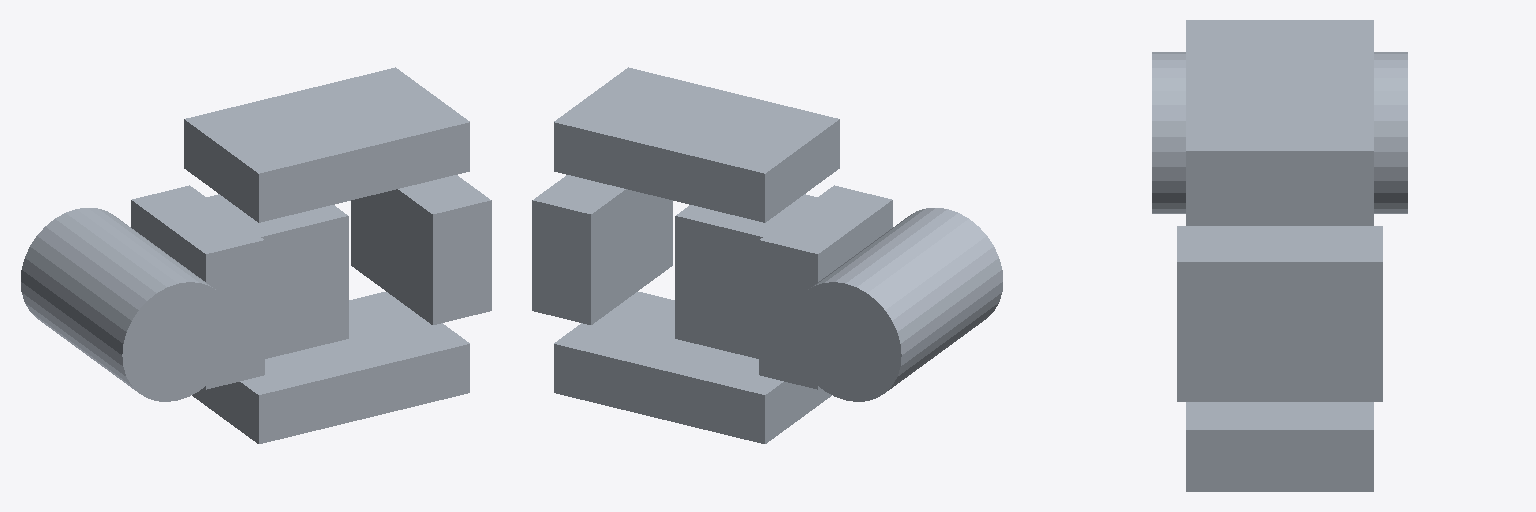
robot.urdf — robotic_wrist_head:
<robot name="robotic_wrist_head">
  <material name="dark_anodized">
    <color rgba="0.17 0.19 0.23 1" />
  </material>
  <material name="machined_aluminum">
    <color rgba="0.73 0.76 0.8 1" />
  </material>
  <material name="brushed_steel">
    <color rgba="0.6 0.62 0.66 1" />
  </material>
  <link name="base_mount">
    <inertial>
      <origin xyz="-0.024 0 0" rpy="0 0 0" />
      <mass value="1.15" />
      <inertia ixx="0.0009936" ixy="0" ixz="0" iyy="0.000650133" iyz="0" izz="0.000650133" />
    </inertial>
    <visual>
      <geometry>
        <mesh filename="meshes/base_mount.glb" />
      </geometry>
      <material name="dark_anodized" />
    </visual>
    <collision>
      <origin xyz="-0.02 0 0" rpy="0 0 0" />
      <geometry>
        <box size="0.03 0.058 0.058" />
      </geometry>
    </collision>
    <collision>
      <origin xyz="-0.04 0 0" rpy="0 0 0" />
      <geometry>
        <box size="0.01 0.068 0.068" />
      </geometry>
    </collision>
  </link>
  <link name="yaw_housing">
    <inertial>
      <origin xyz="0.026 0 0" rpy="0 0 0" />
      <mass value="0.8" />
      <inertia ixx="0.0015552" ixy="0" ixz="0" iyy="0.000986667" iyz="0" izz="0.000986667" />
    </inertial>
    <visual>
      <geometry>
        <mesh filename="meshes/yaw_housing.glb" />
      </geometry>
      <material name="dark_anodized" />
    </visual>
    <collision>
      <origin xyz="0.004 0 0" rpy="0 0 0" />
      <geometry>
        <box size="0.004 0.03 0.03" />
      </geometry>
    </collision>
    <collision>
      <origin xyz="0.013 -0.032 0" rpy="0 0 0" />
      <geometry>
        <box size="0.022 0.014 0.06" />
      </geometry>
    </collision>
    <collision>
      <origin xyz="0.013 0.032 0" rpy="0 0 0" />
      <geometry>
        <box size="0.022 0.014 0.06" />
      </geometry>
    </collision>
    <collision>
      <origin xyz="0.058 -0.024 0" rpy="0 0 0" />
      <geometry>
        <box size="0.01 0.008 0.024" />
      </geometry>
    </collision>
    <collision>
      <origin xyz="0.058 0.024 0" rpy="0 0 0" />
      <geometry>
        <box size="0.01 0.008 0.024" />
      </geometry>
    </collision>
    <collision>
      <origin xyz="0.009 0 0.03" rpy="0 0 0" />
      <geometry>
        <box size="0.014 0.04 0.014" />
      </geometry>
    </collision>
    <collision>
      <origin xyz="0.009 0 -0.03" rpy="0 0 0" />
      <geometry>
        <box size="0.014 0.04 0.014" />
      </geometry>
    </collision>
    <collision>
      <origin xyz="0.012 0.049 0.01" rpy="0 0 0" />
      <geometry>
        <box size="0.01 0.008 0.012" />
      </geometry>
    </collision>
  </link>
  <link name="pitch_yoke">
    <inertial>
      <origin xyz="0.028 0 0" rpy="0 0 0" />
      <mass value="0.55" />
      <inertia ixx="0.000413783" ixy="0" ixz="0" iyy="0.000330367" iyz="0" izz="0.000391783" />
    </inertial>
    <visual>
      <origin xyz="0 0 0" rpy="-1.5708 0 0" />
      <geometry>
        <cylinder radius="0.0095" length="0.03" />
      </geometry>
      <material name="machined_aluminum" />
    </visual>
    <visual>
      <origin xyz="0.012 0 0" rpy="0 0 0" />
      <geometry>
        <box size="0.01 0.022 0.022" />
      </geometry>
      <material name="machined_aluminum" />
    </visual>
    <visual>
      <origin xyz="0.024 0 0" rpy="0 0 0" />
      <geometry>
        <box size="0.018 0.016 0.02" />
      </geometry>
      <material name="machined_aluminum" />
    </visual>
    <visual>
      <origin xyz="0.034 0 0.018" rpy="0 0 0" />
      <geometry>
        <box size="0.036 0.022 0.008" />
      </geometry>
      <material name="machined_aluminum" />
    </visual>
    <visual>
      <origin xyz="0.034 0 -0.018" rpy="0 0 0" />
      <geometry>
        <box size="0.036 0.022 0.008" />
      </geometry>
      <material name="machined_aluminum" />
    </visual>
    <visual>
      <origin xyz="0.05 0 0" rpy="0 0 0" />
      <geometry>
        <box size="0.01 0.024 0.018" />
      </geometry>
      <material name="machined_aluminum" />
    </visual>
    <collision>
      <origin xyz="0 0 0" rpy="-1.5708 0 0" />
      <geometry>
        <cylinder radius="0.008" length="0.03" />
      </geometry>
    </collision>
    <collision>
      <origin xyz="0.012 0 0" rpy="0 0 0" />
      <geometry>
        <box size="0.01 0.022 0.022" />
      </geometry>
    </collision>
    <collision>
      <origin xyz="0.024 0 0" rpy="0 0 0" />
      <geometry>
        <box size="0.018 0.016 0.02" />
      </geometry>
    </collision>
    <collision>
      <origin xyz="0.034 0 0.018" rpy="0 0 0" />
      <geometry>
        <box size="0.036 0.022 0.008" />
      </geometry>
    </collision>
    <collision>
      <origin xyz="0.034 0 -0.018" rpy="0 0 0" />
      <geometry>
        <box size="0.036 0.022 0.008" />
      </geometry>
    </collision>
  </link>
  <link name="roll_head">
    <inertial>
      <origin xyz="0.042 0 0" rpy="0 0 0" />
      <mass value="0.45" />
      <inertia ixx="0.0002352" ixy="0" ixz="0" iyy="0.00039495" iyz="0" izz="0.00039495" />
    </inertial>
    <visual>
      <geometry>
        <mesh filename="meshes/roll_head.glb" />
      </geometry>
      <material name="brushed_steel" />
    </visual>
    <collision>
      <origin xyz="0 0 0" rpy="0 1.5708 0" />
      <geometry>
        <cylinder radius="0.01" length="0.026" />
      </geometry>
    </collision>
    <collision>
      <origin xyz="0.042 0 0" rpy="0 0 0" />
      <geometry>
        <box size="0.048 0.028 0.028" />
      </geometry>
    </collision>
    <collision>
      <origin xyz="0.044 0.032 0" rpy="0 0 0" />
      <geometry>
        <box size="0.022 0.02 0.012" />
      </geometry>
    </collision>
  </link>
  <joint name="yaw_axis" type="revolute">
    <parent link="base_mount" />
    <child link="yaw_housing" />
    <axis xyz="0 0 1" />
    <limit effort="18" velocity="3" lower="-2.35" upper="2.35" />
  </joint>
  <joint name="pitch_axis" type="revolute">
    <origin xyz="0.058 0 0" rpy="0 0 0" />
    <parent link="yaw_housing" />
    <child link="pitch_yoke" />
    <axis xyz="0 1 0" />
    <limit effort="12" velocity="2.5" lower="-1.05" upper="1.05" />
  </joint>
  <joint name="roll_axis" type="revolute">
    <origin xyz="0.04 0 0" rpy="0 0 0" />
    <parent link="pitch_yoke" />
    <child link="roll_head" />
    <axis xyz="1 0 0" />
    <limit effort="10" velocity="6" lower="-2.4" upper="2.4" />
  </joint>
</robot>

--- What the picture shows (computed from the rendered views, not written in the file) ---
Views: 3 orthographic renders of the robot side by side, from view 1: azimuth 30°, elevation 25°; view 2: azimuth 150°, elevation 25°; view 3: azimuth 270°, elevation 25°.
Model robotic_wrist_head with 4 links and 3 joints (3 revolute), rooted at base_mount, posed every joint at zero.
Visible links, largest first — view 1: pitch_yoke; view 2: pitch_yoke; view 3: pitch_yoke.
Boxes of the visible links, x1,y1,x2,y2 form: pitch_yoke: (21,67,491,443); pitch_yoke: (532,67,1002,443); pitch_yoke: (1152,20,1407,491).
Size in the robot's own frame: 0.0645 by 0.03 by 0.044 metres.
Meshes: 3 distinct files referenced, 0 mesh visuals loaded (none loaded); not drawn: 3 (reference not matched to a file when rendering).
